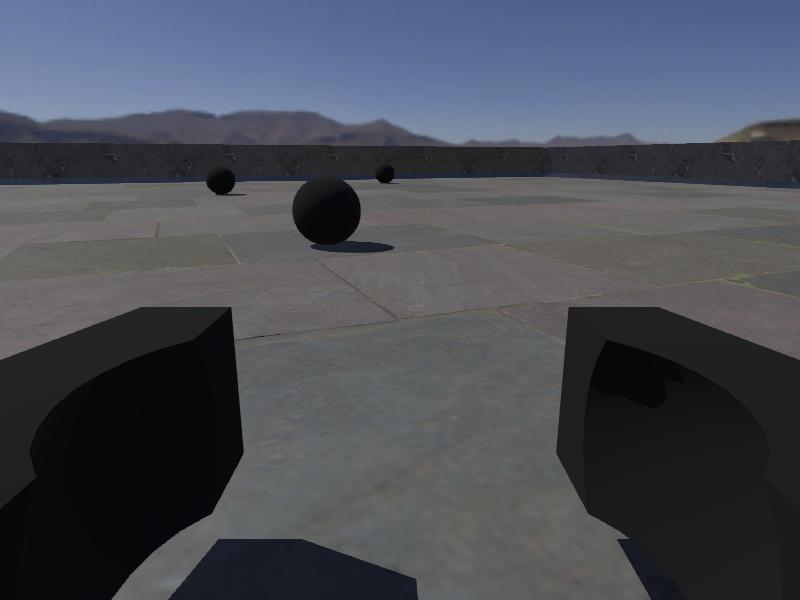black ball: (292, 174, 362, 245), (205, 165, 238, 195), (374, 162, 396, 184)
